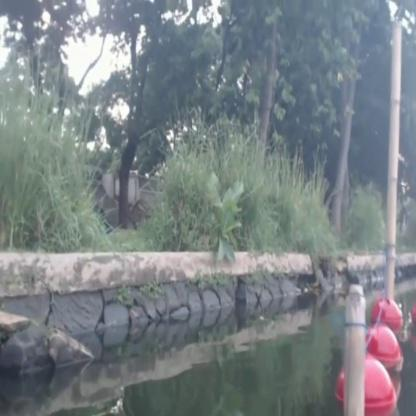red_buoy: (338, 351, 388, 415), (370, 323, 397, 373), (370, 292, 402, 331)
